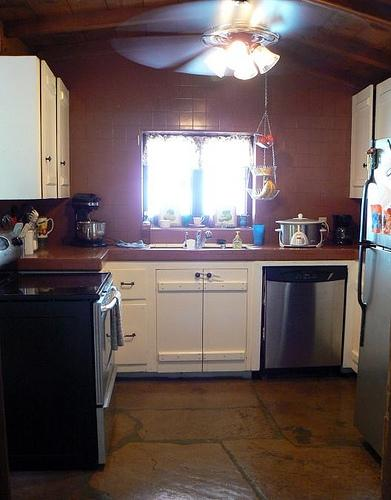banana: (261, 179, 274, 200), (263, 180, 270, 189), (272, 183, 276, 190)
